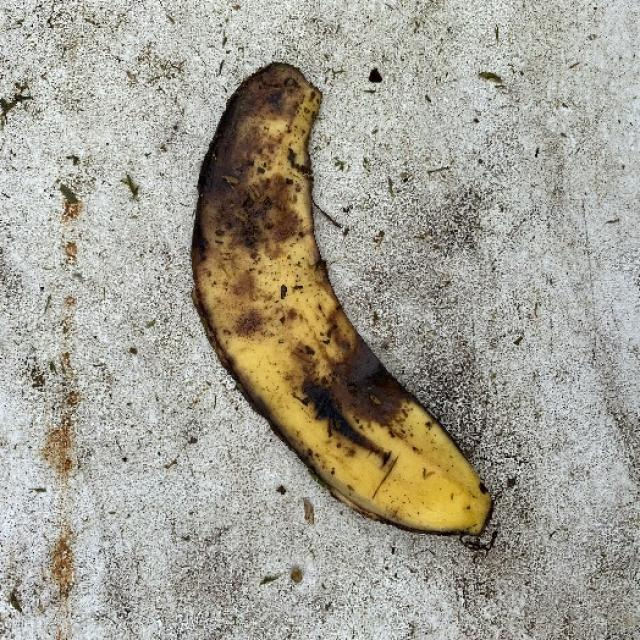organik: (172, 55, 508, 546)
